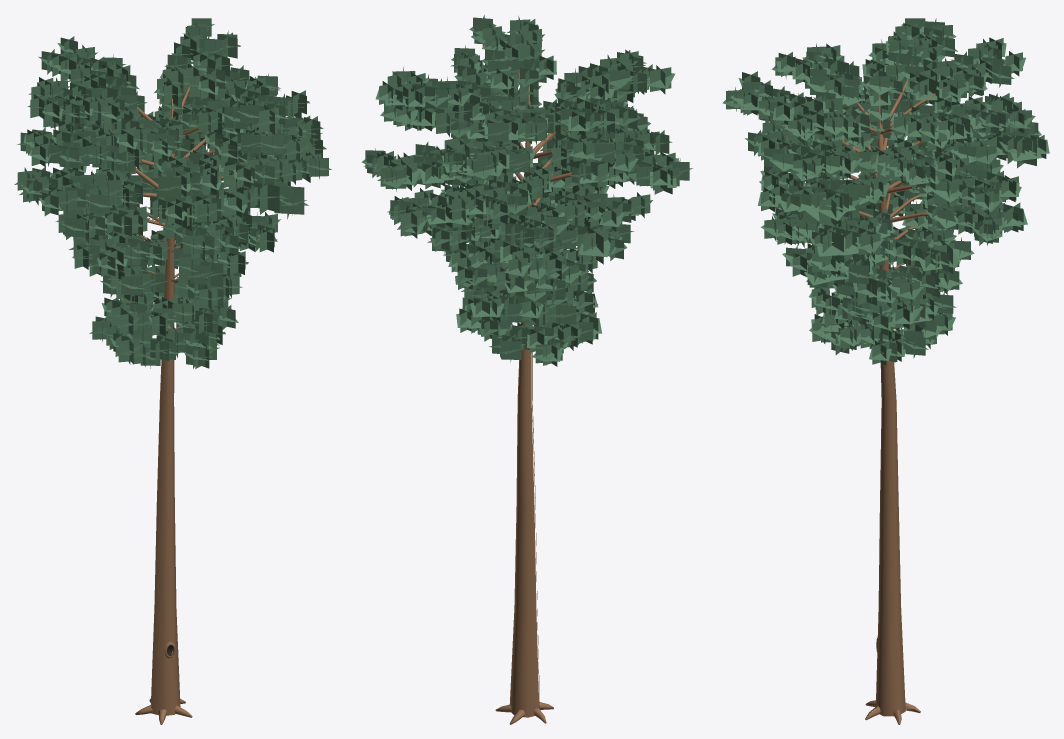
Rendered from pin_5_f3_jeu.glb.
The picture shows the model from 3 angles, left to right: view 1: azimuth 30°, elevation 25°; view 2: azimuth 150°, elevation 25°; view 3: azimuth 270°, elevation 25°; orthographic projection.
Visible parts, largest first — view 1: Pin_T5_f3_Leger; view 2: Pin_T5_f3_Leger; view 3: Pin_T5_f3_Leger.
Boxes of the visible parts, <box> form: Pin_T5_f3_Leger: <box>14,18,331,724</box>; Pin_T5_f3_Leger: <box>361,15,692,724</box>; Pin_T5_f3_Leger: <box>722,18,1049,724</box>.
Size of the model in its own units: 10.02 by 21.75 by 10.05.
